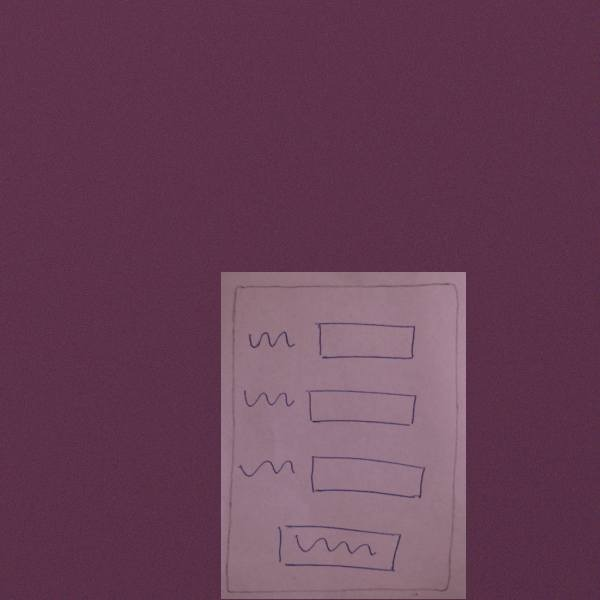text: (234, 452, 298, 481), (242, 385, 296, 412), (247, 326, 296, 354)
text_input: (305, 450, 428, 502), (311, 319, 421, 368), (305, 382, 419, 429)
